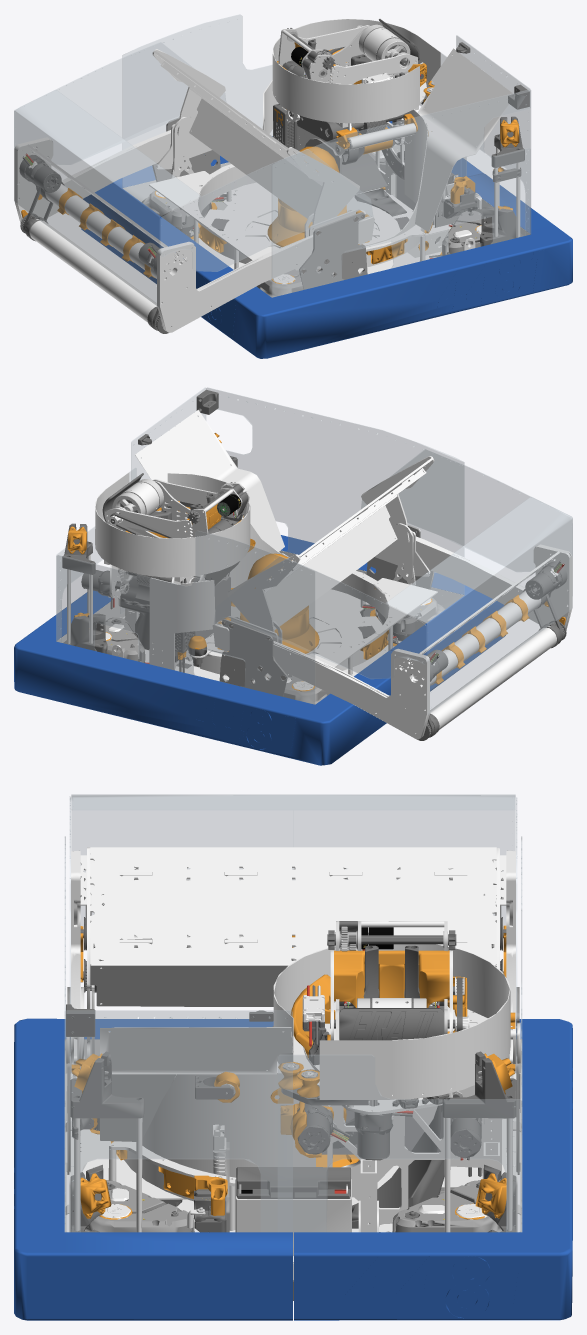
The model's file is robot.glb.
3 views of the same model, one above another, from view 1: azimuth 30°, elevation 25°; view 2: azimuth 150°, elevation 25°; view 3: azimuth 270°, elevation 25° (orthographic). The views are drawn at different scales.
Parts seen in each view (by area): view 1: chassis/polycarbonate, intake/polycarbonate, chassis/1,1,1,1, chassis/bumper, intake/1,1,1,1, passive-kicker/1,1,1,1, chassis/0.2,0.2,0.2,1, chassis/0.4,0.4,0.4,1, chassis/0.92,0.37,0.04,1, intake-roller-0/1,1,1,1, indexer-disk/1,1,1,1, intake/0.2,0.2,0.2,1 (+7 smaller); view 2: chassis/polycarbonate, intake/polycarbonate, chassis/1,1,1,1, chassis/bumper, intake/1,1,1,1, passive-kicker/1,1,1,1, chassis/0.4,0.4,0.4,1, chassis/0.2,0.2,0.2,1, intake-roller-0/1,1,1,1, chassis/0.92,0.37,0.04,1, intake/0.2,0.2,0.2,1, turret/0.2,0.2,0.2,1 (+7 smaller); view 3: chassis/bumper, chassis/polycarbonate, chassis/1,1,1,1, passive-kicker/1,1,1,1, intake/polycarbonate, chassis/0.2,0.2,0.2,1, chassis/0.92,0.37,0.04,1, turret/0.2,0.2,0.2,1, chassis/0.4,0.4,0.4,1, chassis/0.8,0.8,0.8,1, turret-hood/0.92,0.37,0.04,1, intake/1,1,1,1 (+4 smaller).
Boxes of the visible parts, left/top/right/bottom form: chassis/polycarbonate: left=122, top=14, right=530, bottom=297; intake/polycarbonate: left=14, top=42, right=372, bottom=307; chassis/1,1,1,1: left=123, top=19, right=530, bottom=284; chassis/bumper: left=81, top=121, right=572, bottom=358; intake/1,1,1,1: left=14, top=130, right=371, bottom=332; passive-kicker/1,1,1,1: left=152, top=49, right=359, bottom=237; chassis/0.2,0.2,0.2,1: left=158, top=42, right=529, bottom=282; chassis/0.4,0.4,0.4,1: left=142, top=117, right=485, bottom=297; chassis/0.92,0.37,0.04,1: left=155, top=80, right=519, bottom=283; intake-roller-0/1,1,1,1: left=30, top=219, right=157, bottom=322; indexer-disk/1,1,1,1: left=223, top=199, right=400, bottom=247; intake/0.2,0.2,0.2,1: left=19, top=155, right=168, bottom=333; chassis/polycarbonate: left=56, top=387, right=464, bottom=704; intake/polycarbonate: left=214, top=449, right=572, bottom=714; chassis/1,1,1,1: left=57, top=410, right=463, bottom=690; chassis/bumper: left=14, top=535, right=505, bottom=765; intake/1,1,1,1: left=216, top=536, right=572, bottom=739; passive-kicker/1,1,1,1: left=227, top=456, right=434, bottom=643; chassis/0.4,0.4,0.4,1: left=101, top=524, right=444, bottom=704; chassis/0.2,0.2,0.2,1: left=62, top=389, right=411, bottom=687; intake-roller-0/1,1,1,1: left=429, top=626, right=556, bottom=729; chassis/0.92,0.37,0.04,1: left=67, top=433, right=432, bottom=691; intake/0.2,0.2,0.2,1: left=418, top=561, right=567, bottom=740; turret/0.2,0.2,0.2,1: left=102, top=473, right=248, bottom=538; chassis/bumper: left=14, top=1018, right=572, bottom=1320; chassis/polycarbonate: left=64, top=836, right=522, bottom=1252; chassis/1,1,1,1: left=65, top=944, right=522, bottom=1279; passive-kicker/1,1,1,1: left=87, top=847, right=499, bottom=1058; intake/polycarbonate: left=69, top=794, right=517, bottom=1064; chassis/0.2,0.2,0.2,1: left=66, top=1004, right=516, bottom=1300; chassis/0.92,0.37,0.04,1: left=71, top=1012, right=515, bottom=1219; turret/0.2,0.2,0.2,1: left=302, top=921, right=462, bottom=1065; chassis/0.4,0.4,0.4,1: left=67, top=987, right=519, bottom=1232; chassis/0.8,0.8,0.8,1: left=65, top=1073, right=521, bottom=1255; turret-hood/0.92,0.37,0.04,1: left=334, top=950, right=449, bottom=1007; intake/1,1,1,1: left=71, top=850, right=515, bottom=1064.
Bounding box in the file's own units: 1.08 × 0.5504 × 0.8524.
